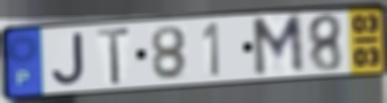1: (200, 20, 222, 79)
8: (305, 12, 345, 73), (148, 25, 190, 81)
J: (50, 31, 86, 88)
M: (249, 12, 307, 79)
T: (95, 25, 133, 87)
